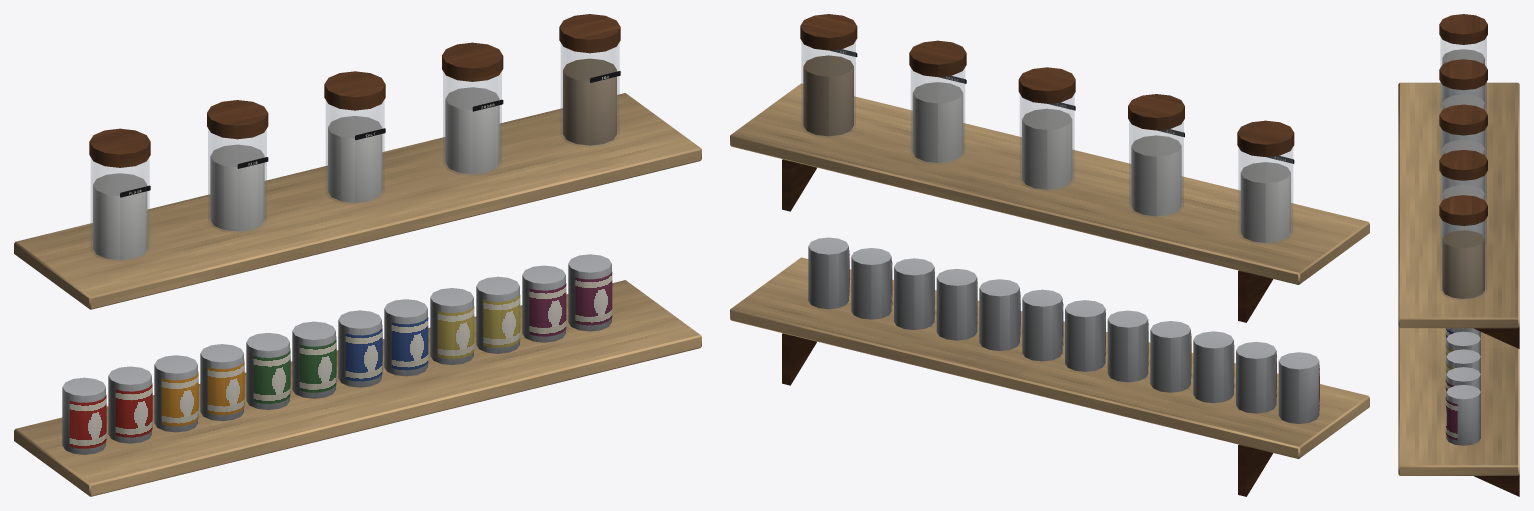
File: wall_shelf_pantry.glb
The picture shows the model from 3 angles, left to right: view 1: azimuth 30°, elevation 25°; view 2: azimuth 150°, elevation 25°; view 3: azimuth 270°, elevation 25°; orthographic projection. The views are drawn at different scales.
Parts seen in each view (by area): view 1: body, panels, decals; view 2: body; view 3: body, panels.
Boxes of the visible parts, bbox=[...] form: body: bbox=[14, 14, 701, 496]; panels: bbox=[69, 272, 612, 448]; decals: bbox=[120, 71, 620, 197]; body: bbox=[730, 14, 1369, 496]; body: bbox=[1398, 14, 1519, 496]; panels: bbox=[1445, 328, 1457, 440].
Size of the model in its own units: 1.2 by 0.6775 by 0.26.
Materials: 9 (5 with a texture image).
